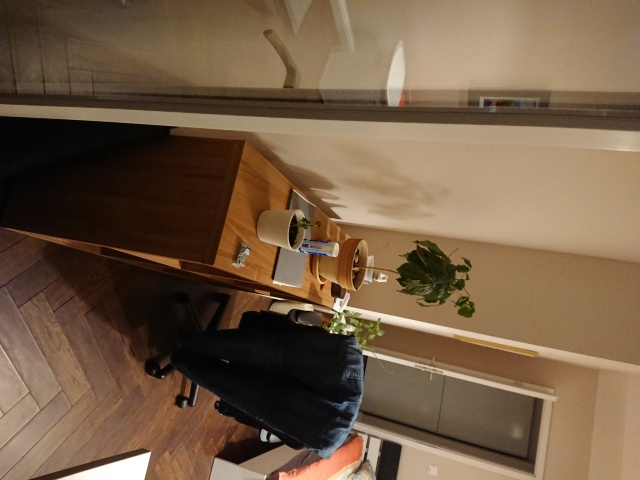Solana Pag Fine Sea Salt 250g: (289, 237, 342, 261)
